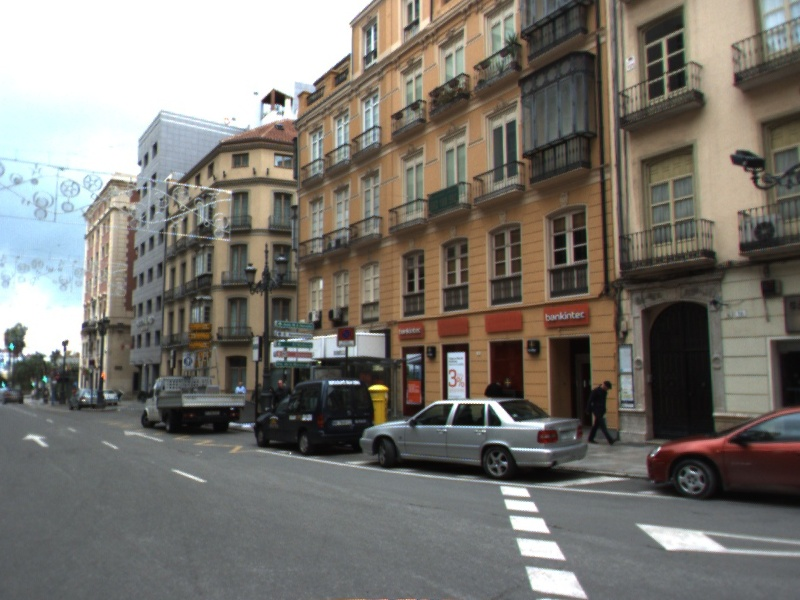STRAIGHT: (122, 428, 166, 444), (20, 431, 52, 449)
